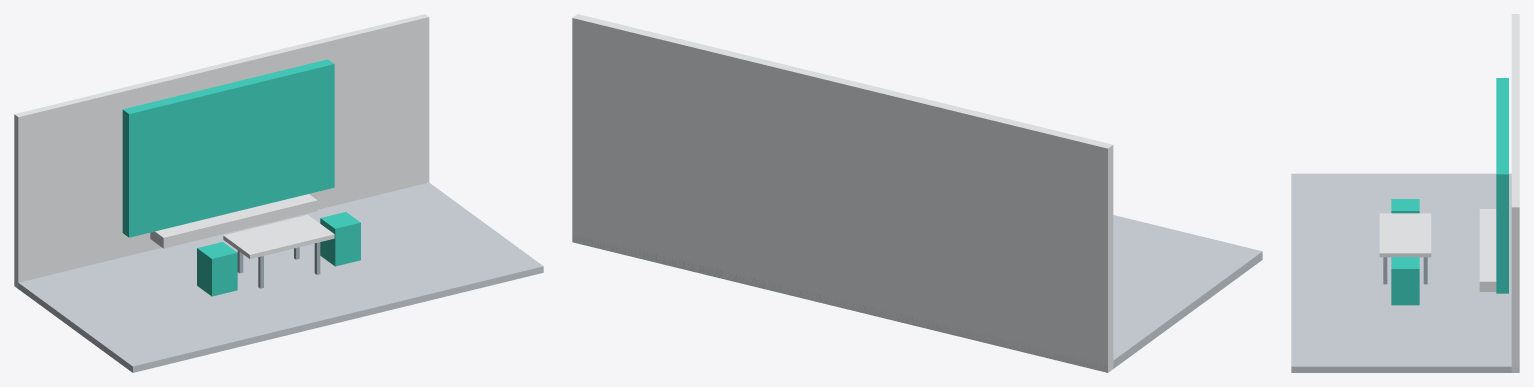
3 views of the same model, side by side, from view 1: azimuth 30°, elevation 25°; view 2: azimuth 150°, elevation 25°; view 3: azimuth 270°, elevation 25° (orthographic). The views are drawn at different scales.
Parts seen in each view (by area): view 1: Exhibition Booth Concept; view 2: Exhibition Booth Concept; view 3: Exhibition Booth Concept.
Boxes of the visible parts, x1=… form: Exhibition Booth Concept: x1=14, y1=14, x2=543, y2=372; Exhibition Booth Concept: x1=572, y1=14, x2=1262, y2=372; Exhibition Booth Concept: x1=1291, y1=14, x2=1519, y2=372.
Size of the model in its own units: 8 by 3.2 by 4.
